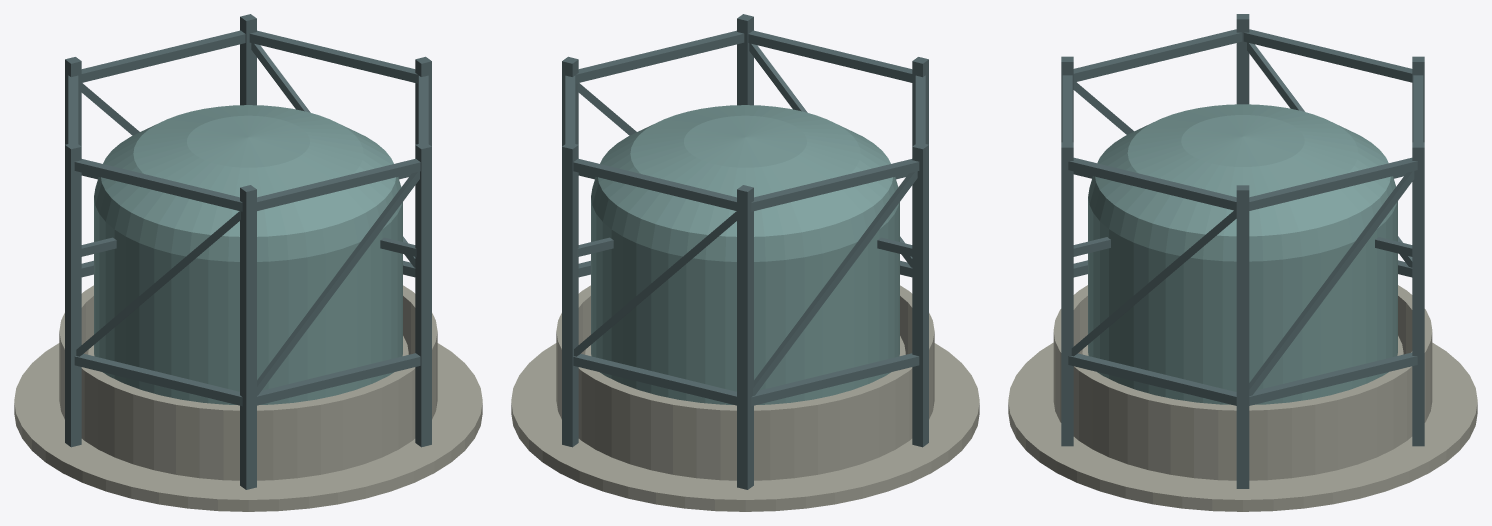
3 renders of one model, left to right at view 1: azimuth 30°, elevation 25°; view 2: azimuth 150°, elevation 25°; view 3: azimuth 270°, elevation 25°, orthographic.
Visible parts, largest first — view 1: WholeOpenBottomDomedBell, WholeLowPoolAndBroadFoundation, WholeUpperHexagonalGuideRing, WholeLowerHexagonalGuideRing, WholeOutsideGuideStandard4, WholeOutsideGuideStandard5, WholeOutsideGuideStandard3, WholeTowerFaceDiagonal4, WholeTowerFaceDiagonal3, WholeOutsideGuideStandard1, WholeTowerFaceDiagonal0, WholeOutsideGuideStandard2 (+2 smaller); view 2: WholeOpenBottomDomedBell, WholeLowPoolAndBroadFoundation, WholeUpperHexagonalGuideRing, WholeLowerHexagonalGuideRing, WholeOutsideGuideStandard2, WholeOutsideGuideStandard1, WholeOutsideGuideStandard3, WholeTowerFaceDiagonal2, WholeTowerFaceDiagonal1, WholeOutsideGuideStandard5, WholeTowerFaceDiagonal4, WholeOutsideGuideStandard4 (+2 smaller); view 3: WholeOpenBottomDomedBell, WholeLowPoolAndBroadFoundation, WholeUpperHexagonalGuideRing, WholeLowerHexagonalGuideRing, WholeOutsideGuideStandard0, WholeOutsideGuideStandard5, WholeOutsideGuideStandard1, WholeTowerFaceDiagonal0, WholeTowerFaceDiagonal5, WholeOutsideGuideStandard3, WholeTowerFaceDiagonal2, WholeTowerFaceDiagonal3 (+2 smaller).
Part boxes in pixels (x1,y1,x2,y2): WholeOpenBottomDomedBell: (94,105,402,404); WholeLowPoolAndBroadFoundation: (14,285,482,511); WholeUpperHexagonalGuideRing: (68,30,428,211); WholeLowerHexagonalGuideRing: (74,260,420,406); WholeOutsideGuideStandard4: (240,185,256,489); WholeOutsideGuideStandard5: (415,142,431,447); WholeOutsideGuideStandard3: (65,142,81,447); WholeTowerFaceDiagonal4: (257,171,419,395); WholeTowerFaceDiagonal3: (76,211,240,356); WholeOutsideGuideStandard1: (240,14,256,105); WholeTowerFaceDiagonal0: (251,43,415,267); WholeOutsideGuideStandard2: (65,57,81,146); WholeOpenBottomDomedBell: (591,105,899,404); WholeLowPoolAndBroadFoundation: (511,285,979,511); WholeUpperHexagonalGuideRing: (565,30,925,211); WholeLowerHexagonalGuideRing: (573,260,919,406); WholeOutsideGuideStandard2: (737,185,753,489); WholeOutsideGuideStandard1: (562,142,578,447); WholeOutsideGuideStandard3: (912,142,928,447); WholeTowerFaceDiagonal2: (753,171,917,395); WholeTowerFaceDiagonal1: (574,211,736,356); WholeOutsideGuideStandard5: (737,14,753,105); WholeTowerFaceDiagonal4: (749,43,912,267); WholeOutsideGuideStandard4: (912,57,928,146); WholeOpenBottomDomedBell: (1088,104,1397,404); WholeLowPoolAndBroadFoundation: (1008,285,1477,511); WholeUpperHexagonalGuideRing: (1062,29,1423,210); WholeLowerHexagonalGuideRing: (1068,260,1417,405); WholeOutsideGuideStandard0: (1236,185,1249,488); WholeOutsideGuideStandard5: (1061,142,1073,446); WholeOutsideGuideStandard1: (1412,142,1424,446); WholeTowerFaceDiagonal0: (1249,171,1414,395); WholeTowerFaceDiagonal5: (1071,210,1236,356); WholeOutsideGuideStandard3: (1236,14,1249,104); WholeTowerFaceDiagonal2: (1247,42,1412,267); WholeTowerFaceDiagonal3: (1073,82,1134,134).
Size of the model in its own units: 5.7 by 4.16 by 5.7.
